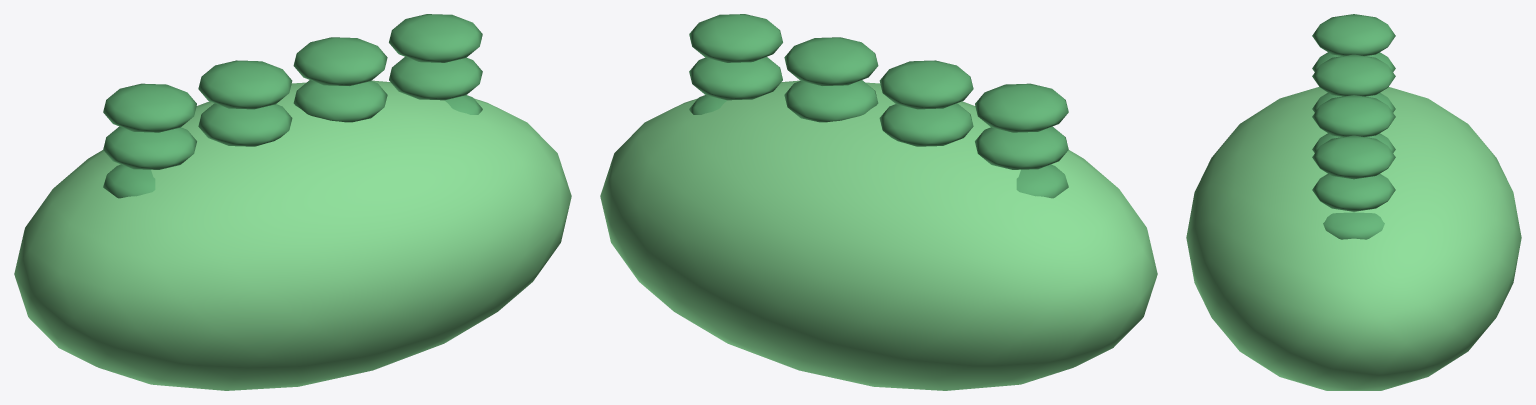
The model's file is cell.chloroplast.glb.
3 views of the same model, side by side, from view 1: azimuth 30°, elevation 25°; view 2: azimuth 150°, elevation 25°; view 3: azimuth 270°, elevation 25° (orthographic). The views are drawn at different scales.
Parts seen in each view (by area): view 1: Chloro, Grana; view 2: Chloro, Grana; view 3: Chloro, Grana.
Part boxes in pixels (x1,y1,x2,y2): Chloro: (14, 80, 571, 390); Grana: (103, 14, 482, 198); Chloro: (600, 80, 1157, 390); Grana: (689, 14, 1068, 198); Chloro: (1186, 87, 1521, 390); Grana: (1312, 14, 1395, 239).
Size of the model in its own units: 0.44 by 0.242 by 0.28.
